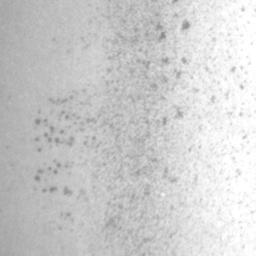Pitted surface: (35, 0, 250, 256), (227, 103, 244, 125), (48, 160, 68, 174), (42, 187, 72, 195), (49, 96, 73, 104), (35, 170, 43, 181)
